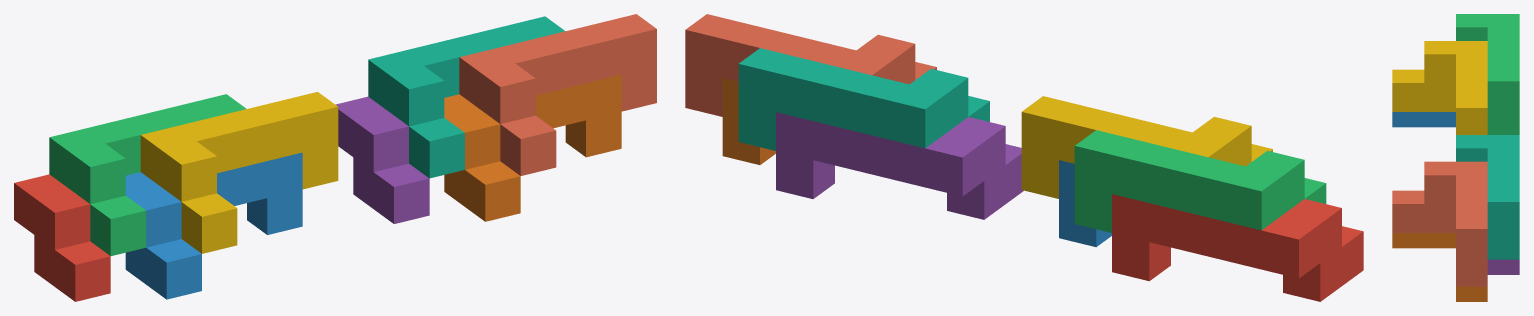
The model's file is tiling.obj.
The picture shows the model from 3 angles, left to right: view 1: azimuth 30°, elevation 25°; view 2: azimuth 150°, elevation 25°; view 3: azimuth 270°, elevation 25°; orthographic projection. The views are drawn at different scales.
Visible parts, largest first — view 1: copy_1_domain_4, copy_1_domain_8, copy_1_domain_6, copy_1_domain_2, copy_1_domain_3, copy_1_domain_7, copy_1_domain_1, copy_1_domain_5; view 2: copy_1_domain_3, copy_1_domain_7, copy_1_domain_1, copy_1_domain_5, copy_1_domain_4, copy_1_domain_8, copy_1_domain_6, copy_1_domain_2; view 3: copy_1_domain_8, copy_1_domain_4, copy_1_domain_7, copy_1_domain_3, copy_1_domain_6, copy_1_domain_2, copy_1_domain_5.
Part boxes in pixels (x1,y1,x2,y2): copy_1_domain_4: [140, 92, 338, 253]; copy_1_domain_8: [459, 14, 656, 175]; copy_1_domain_6: [444, 74, 621, 221]; copy_1_domain_2: [125, 152, 302, 299]; copy_1_domain_3: [49, 94, 246, 255]; copy_1_domain_7: [368, 16, 565, 178]; copy_1_domain_1: [14, 174, 110, 301]; copy_1_domain_5: [335, 96, 429, 223]; copy_1_domain_3: [1074, 130, 1326, 232]; copy_1_domain_7: [738, 48, 989, 150]; copy_1_domain_1: [1112, 194, 1363, 301]; copy_1_domain_5: [776, 112, 1023, 219]; copy_1_domain_4: [1021, 96, 1272, 198]; copy_1_domain_8: [685, 14, 936, 116]; copy_1_domain_6: [722, 78, 775, 164]; copy_1_domain_2: [1059, 160, 1111, 247]; copy_1_domain_8: [1392, 161, 1487, 286]; copy_1_domain_4: [1392, 41, 1487, 134]; copy_1_domain_7: [1456, 135, 1519, 259]; copy_1_domain_3: [1456, 14, 1519, 134]; copy_1_domain_6: [1392, 233, 1487, 301]; copy_1_domain_2: [1392, 112, 1455, 127]; copy_1_domain_5: [1487, 259, 1519, 274].
Bounding box in the file's own units: 17 × 3 × 4.
